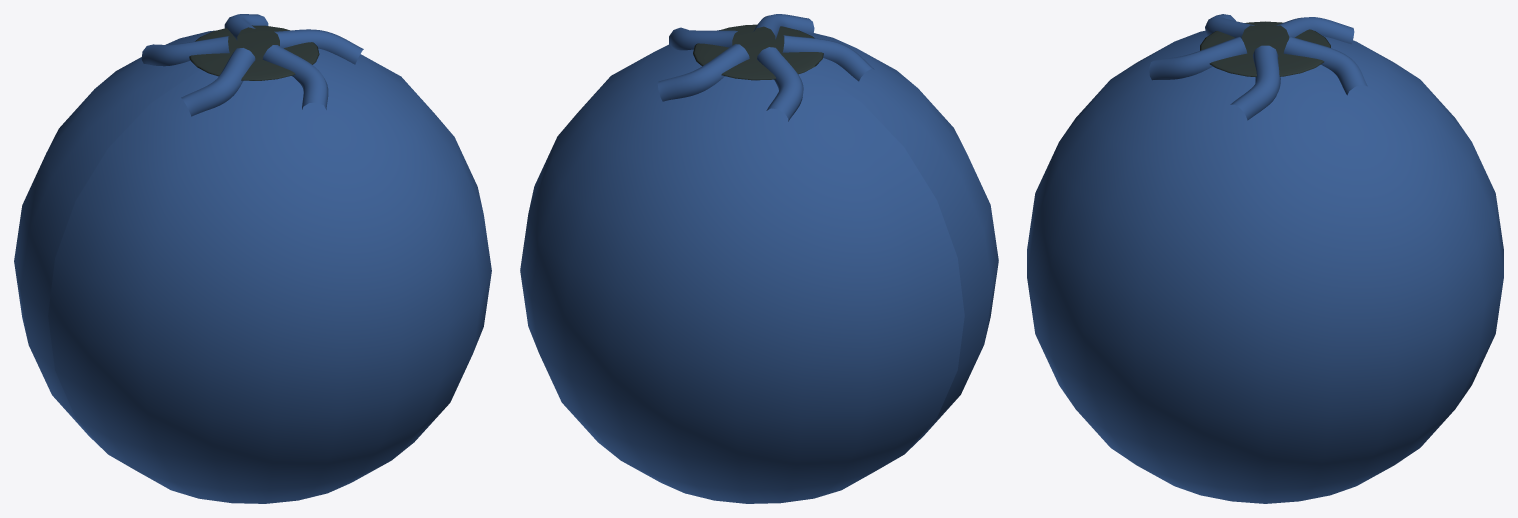
The model's file is berry.glb.
The picture shows the model from 3 angles, left to right: view 1: azimuth 30°, elevation 25°; view 2: azimuth 150°, elevation 25°; view 3: azimuth 270°, elevation 25°; orthographic projection.
Parts seen in each view (by area): view 1: blue, dark; view 2: blue, dark; view 3: blue, dark.
Part boxes in pixels (x1,y1,x2,y2): blue: (14, 14, 491, 503); dark: (189, 25, 319, 80); blue: (520, 14, 998, 503); dark: (693, 24, 823, 80); blue: (1027, 14, 1503, 503); dark: (1200, 21, 1330, 76).
Size of the model in its own units: 0.836 by 0.8575 by 0.8275.
